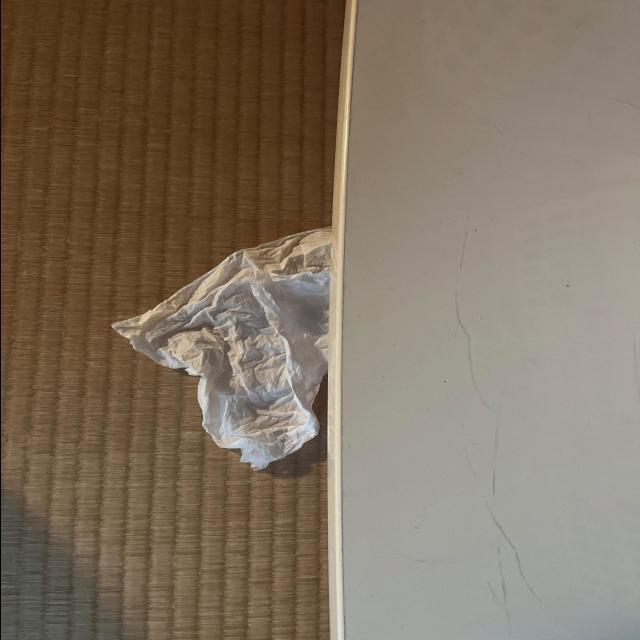Paper: (133, 195, 341, 472)
